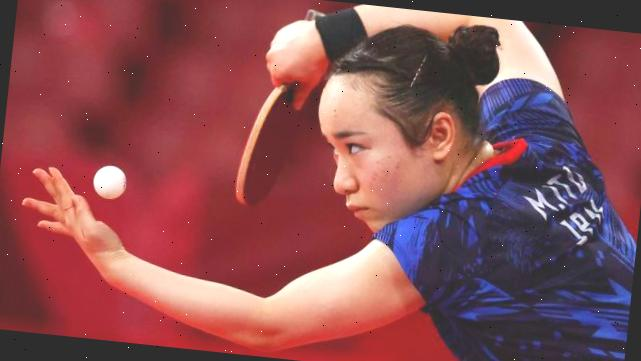ball: (85, 158, 132, 203)
